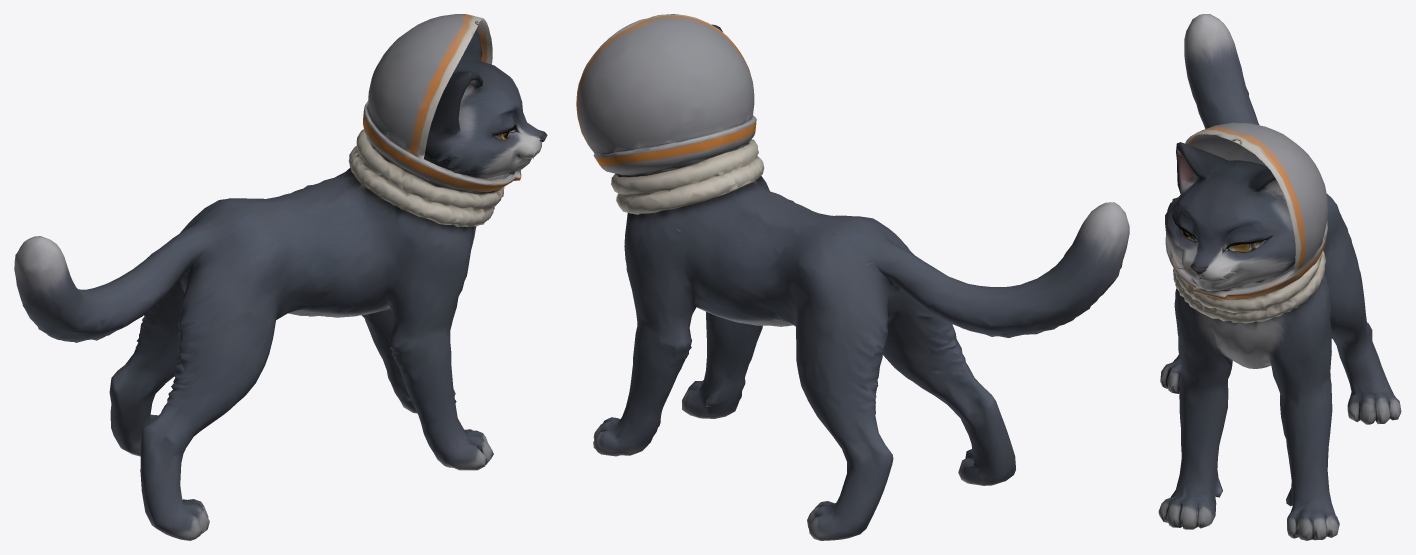
The model's file is GIMBALPAW.glb.
3 renders of one model, left to right at view 1: azimuth 30°, elevation 25°; view 2: azimuth 150°, elevation 25°; view 3: azimuth 270°, elevation 25°, orthographic. The views are drawn at different scales.
Visible parts, largest first — view 1: tripo_node_547ff786-f31c-4ae9-bf9d-bf1eaf30429d; view 2: tripo_node_547ff786-f31c-4ae9-bf9d-bf1eaf30429d; view 3: tripo_node_547ff786-f31c-4ae9-bf9d-bf1eaf30429d.
Boxes of the visible parts, <box> form: tripo_node_547ff786-f31c-4ae9-bf9d-bf1eaf30429d: <box>14,14,547,540</box>; tripo_node_547ff786-f31c-4ae9-bf9d-bf1eaf30429d: <box>576,14,1129,540</box>; tripo_node_547ff786-f31c-4ae9-bf9d-bf1eaf30429d: <box>1158,14,1401,540</box>.
Bounding box in the file's own units: 1.32 × 1 × 0.5489.
Materials: 1 (1 with a texture image).
